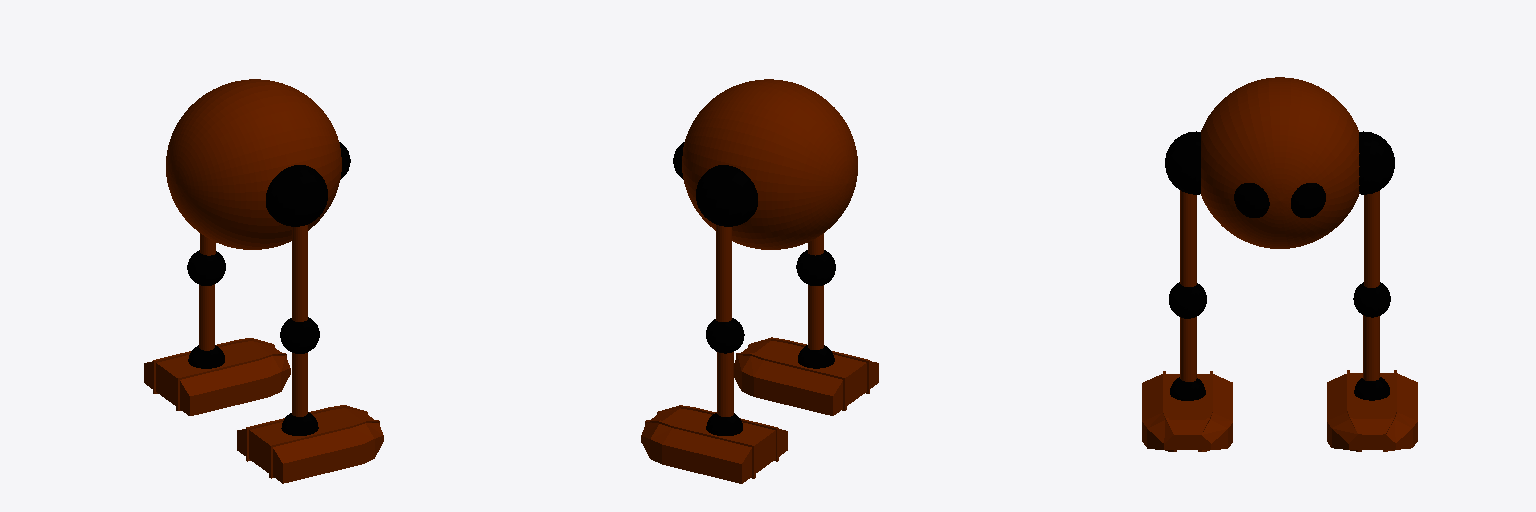
Rendered from Personaje2_still.obj.
The picture shows the model from 3 angles: view 1: azimuth 30°, elevation 25°; view 2: azimuth 150°, elevation 25°; view 3: azimuth 270°, elevation 25°; orthographic projection.
Visible parts, largest first — view 1: SphereFBXASC046001, SphereFBXASC046001 Left_leg polySurface10 polySurface8 polySurfa, SphereFBXASC046001 Right_leg polySurface9 polySurface7 polySurfa, SphereFBXASC046001 Right_leg, SphereFBXASC046001 Right_leg polySurface9, SphereFBXASC046001 Right_leg polySurface9 polySurface7, SphereFBXASC046001 Left_leg polySurface10 polySurface8; view 2: SphereFBXASC046001, SphereFBXASC046001 Left_leg polySurface10 polySurface8 polySurfa, SphereFBXASC046001 Right_leg polySurface9 polySurface7 polySurfa, SphereFBXASC046001 Left_leg, SphereFBXASC046001 Left_leg polySurface10, SphereFBXASC046001 Right_leg polySurface9 polySurface7, SphereFBXASC046001 Left_leg polySurface10 polySurface8; view 3: SphereFBXASC046001, SphereFBXASC046001 Left_leg polySurface10 polySurface8 polySurfa, SphereFBXASC046001 Right_leg polySurface9 polySurface7 polySurfa, SphereFBXASC046001 Left_leg, SphereFBXASC046001 Right_leg, SphereFBXASC046001 Right_leg polySurface9, SphereFBXASC046001 Left_leg polySurface10, SphereFBXASC046001 Right_leg polySurface9 polySurface7, SphereFBXASC046001 Left_leg polySurface10 polySurface8, SphereFBXASC046001 Right_eye, SphereFBXASC046001 Left_eye.
Boxes of the visible parts, x1,y1,x2,y2 form: SphereFBXASC046001: [166, 79, 341, 249]; SphereFBXASC046001 Left_leg polySurface10 polySurface8 polySurfa: [144, 284, 290, 415]; SphereFBXASC046001 Right_leg polySurface9 polySurface7 polySurfa: [237, 353, 383, 483]; SphereFBXASC046001 Right_leg: [266, 165, 327, 226]; SphereFBXASC046001 Right_leg polySurface9: [292, 225, 307, 321]; SphereFBXASC046001 Right_leg polySurface9 polySurface7: [280, 317, 319, 353]; SphereFBXASC046001 Left_leg polySurface10 polySurface8: [187, 250, 225, 285]; SphereFBXASC046001: [682, 79, 857, 249]; SphereFBXASC046001 Left_leg polySurface10 polySurface8 polySurfa: [641, 352, 787, 483]; SphereFBXASC046001 Right_leg polySurface9 polySurface7 polySurfa: [734, 285, 878, 415]; SphereFBXASC046001 Left_leg: [696, 165, 757, 226]; SphereFBXASC046001 Left_leg polySurface10: [716, 225, 731, 321]; SphereFBXASC046001 Right_leg polySurface9 polySurface7: [796, 250, 835, 285]; SphereFBXASC046001 Left_leg polySurface10 polySurface8: [706, 318, 744, 353]; SphereFBXASC046001: [1201, 77, 1359, 248]; SphereFBXASC046001 Left_leg polySurface10 polySurface8 polySurfa: [1327, 315, 1417, 451]; SphereFBXASC046001 Right_leg polySurface9 polySurface7 polySurfa: [1142, 317, 1232, 451]; SphereFBXASC046001 Left_leg: [1359, 131, 1394, 194]; SphereFBXASC046001 Right_leg: [1165, 131, 1200, 194]; SphereFBXASC046001 Right_leg polySurface9: [1180, 190, 1196, 286]; SphereFBXASC046001 Left_leg polySurface10: [1364, 191, 1379, 287]; SphereFBXASC046001 Right_leg polySurface9 polySurface7: [1169, 282, 1206, 318]; SphereFBXASC046001 Left_leg polySurface10 polySurface8: [1353, 282, 1390, 317]; SphereFBXASC046001 Right_eye: [1234, 183, 1269, 217]; SphereFBXASC046001 Left_eye: [1291, 183, 1325, 217].
Size of the model in its own units: 11.56 by 23.51 by 17.35.